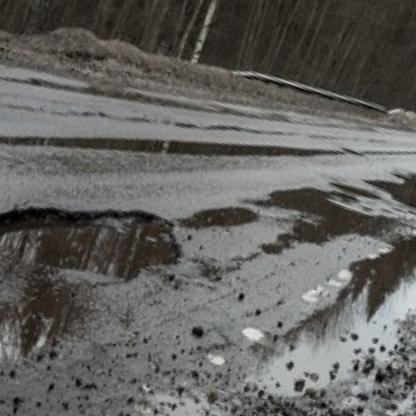pothole: (0, 156, 193, 311)
